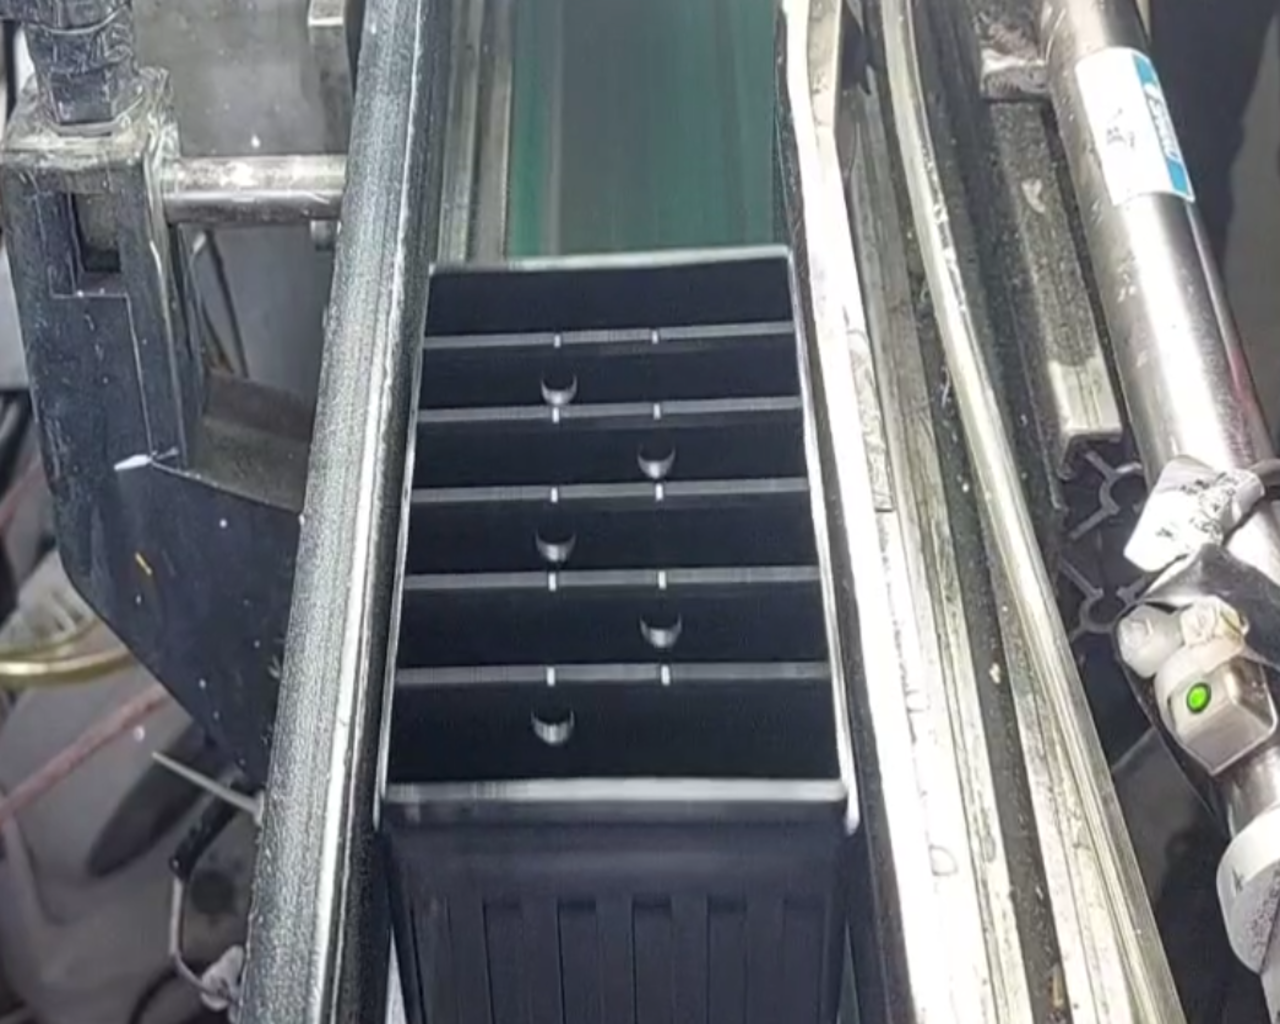box: (359, 210, 879, 855)
round: (612, 411, 695, 496), (503, 679, 591, 754), (620, 589, 705, 667), (518, 348, 597, 421), (523, 503, 594, 573)
